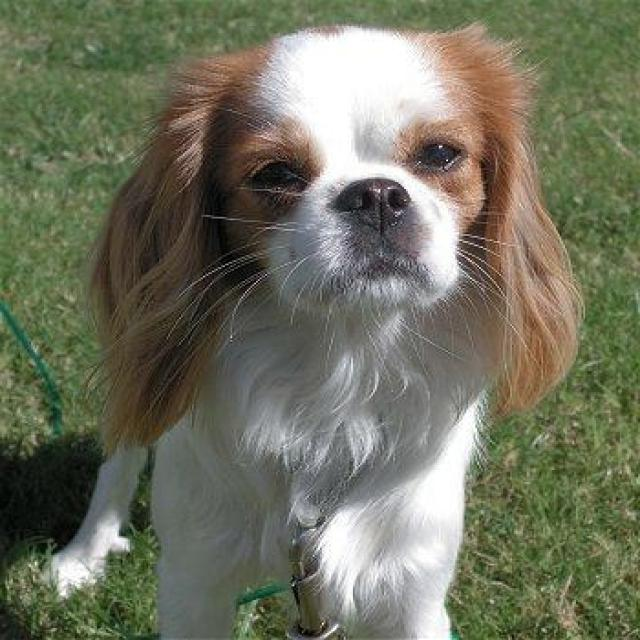husky: (40, 19, 585, 637)
